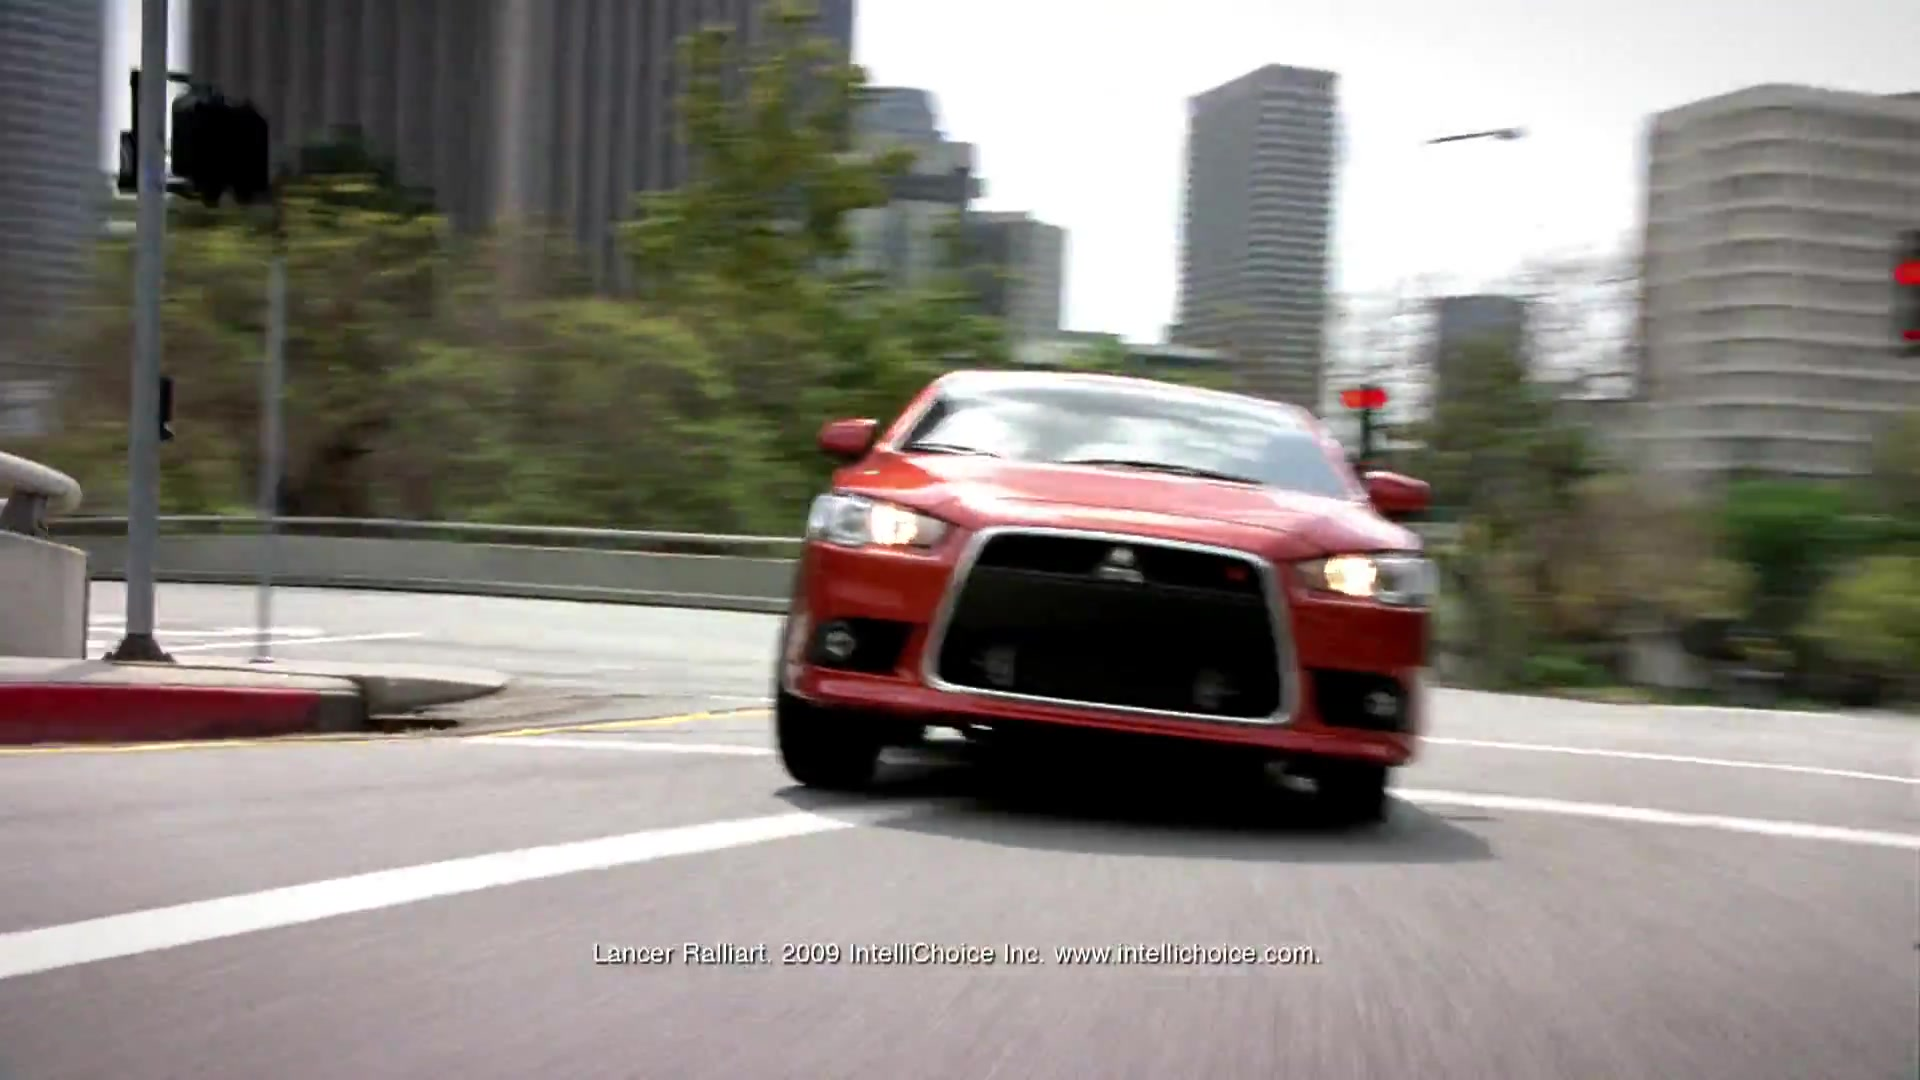car: (770, 361, 1439, 829)
